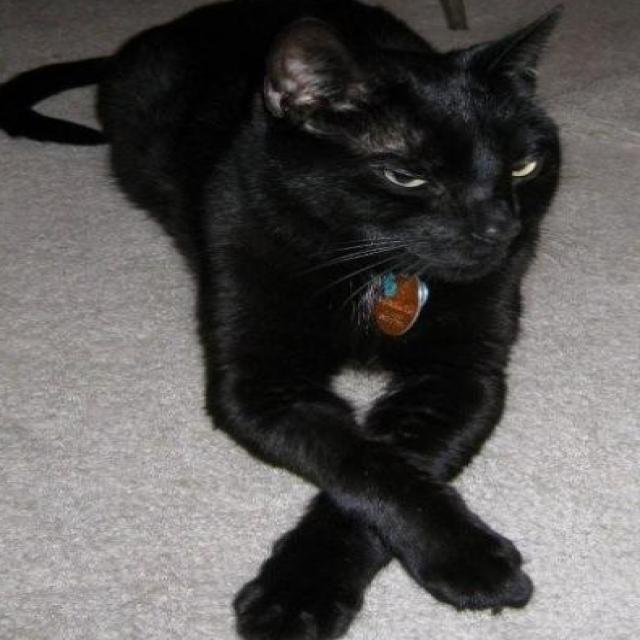Bombay: (0, 0, 577, 640)
